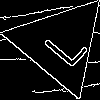L: (35, 19, 89, 70)
